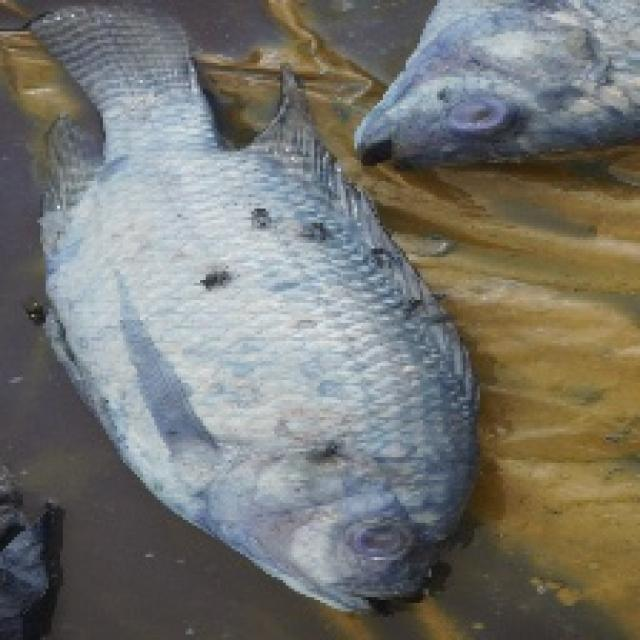Non-Fresh: (65, 130, 427, 499), (434, 80, 519, 148), (336, 506, 415, 568)
